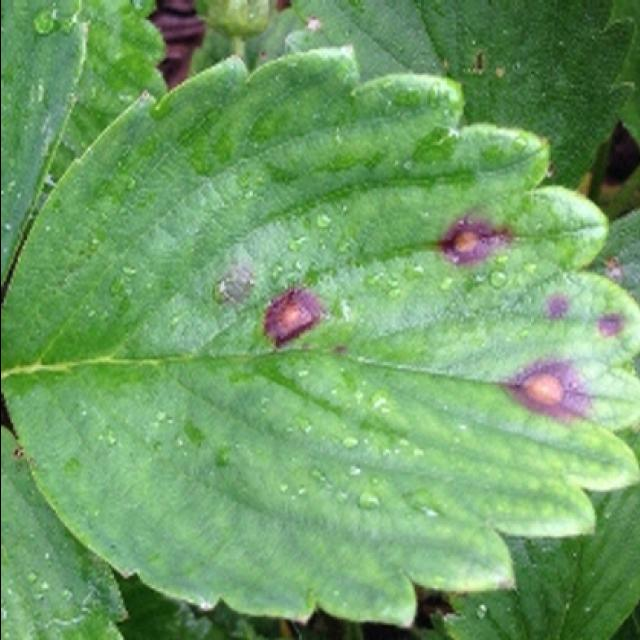Leaf Spot: (2, 42, 640, 630)
